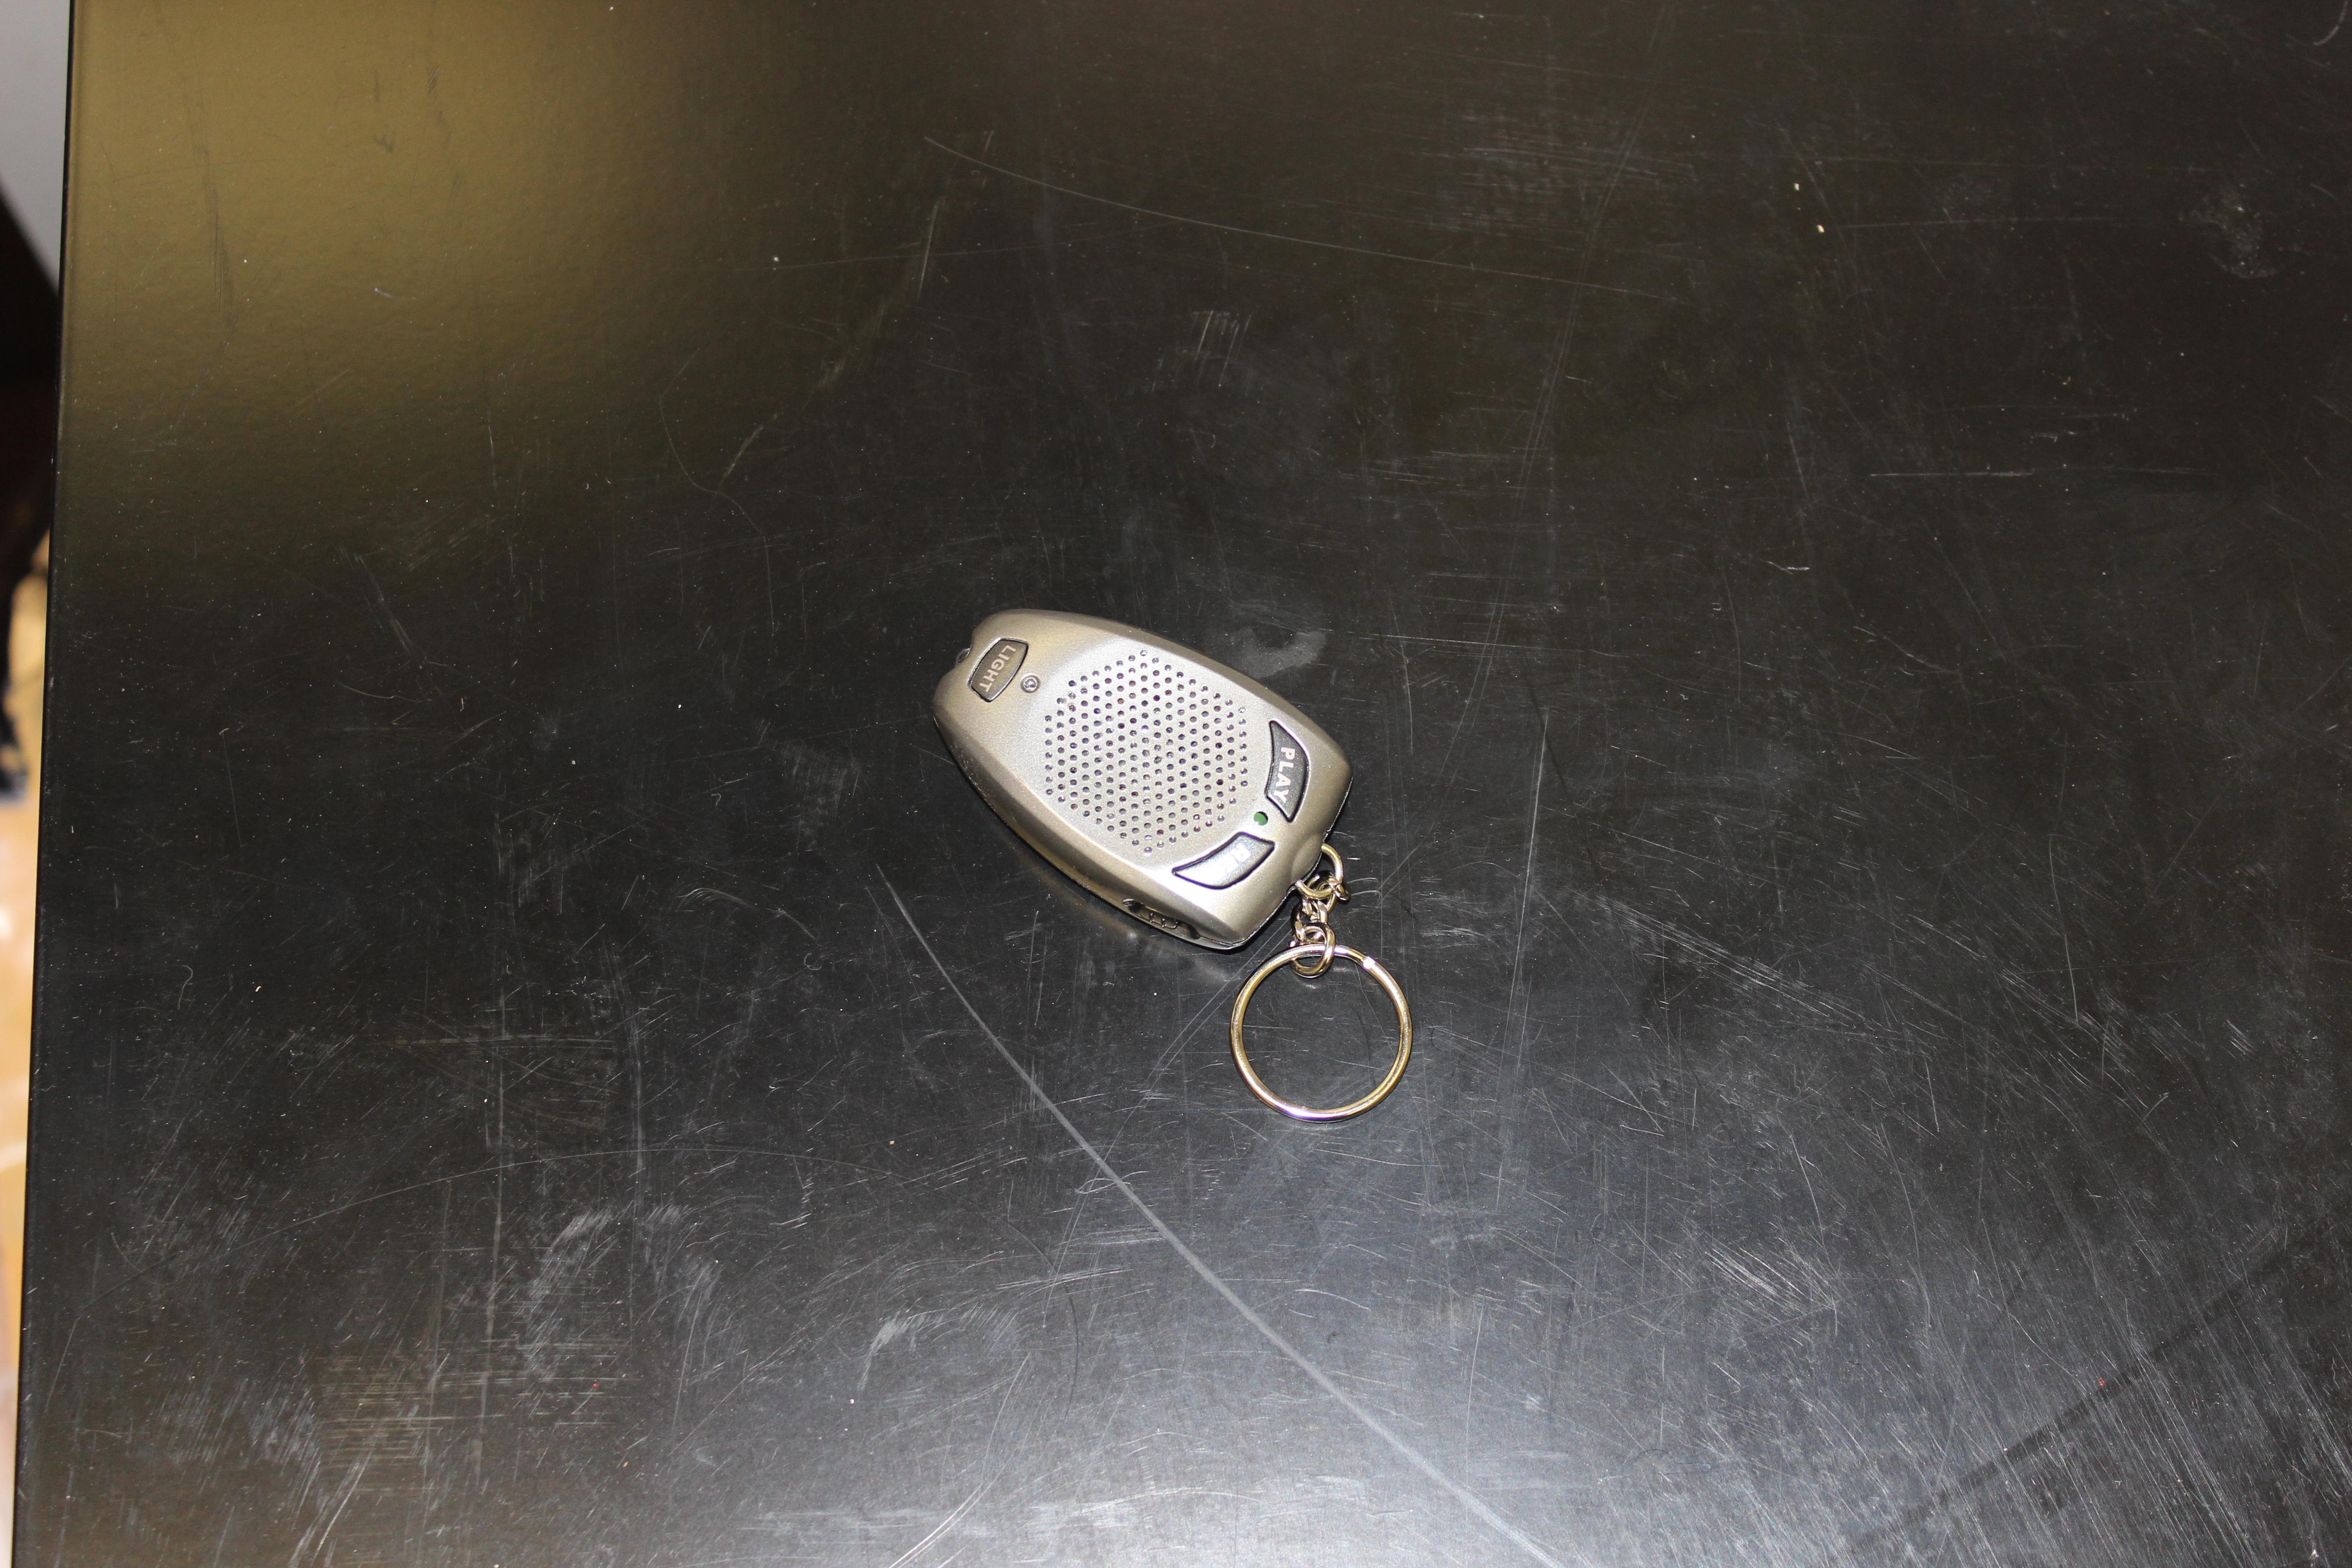voiceRecorder: (892, 583, 1449, 1151)
